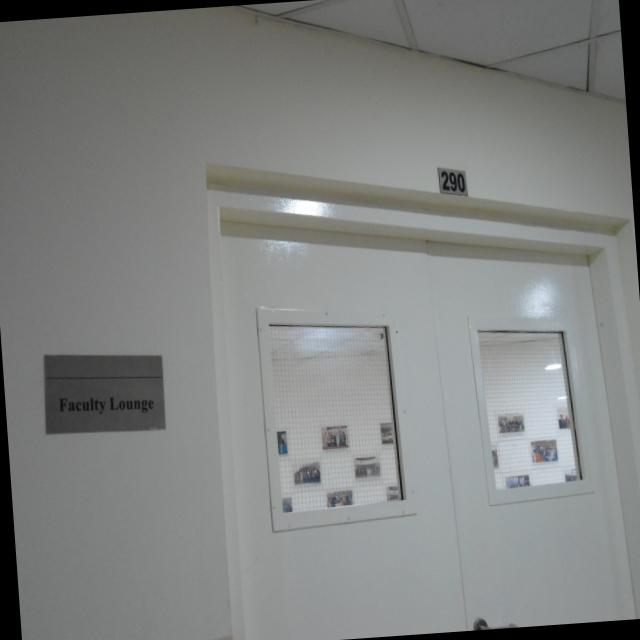door: (195, 128, 640, 640)
sign: (39, 354, 173, 432), (426, 156, 476, 212)
window: (259, 299, 409, 521), (465, 318, 586, 488)
